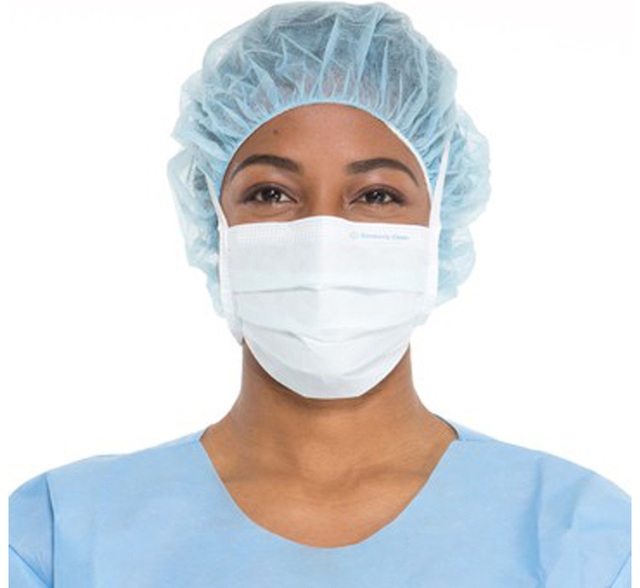mask: (221, 233, 434, 397)
